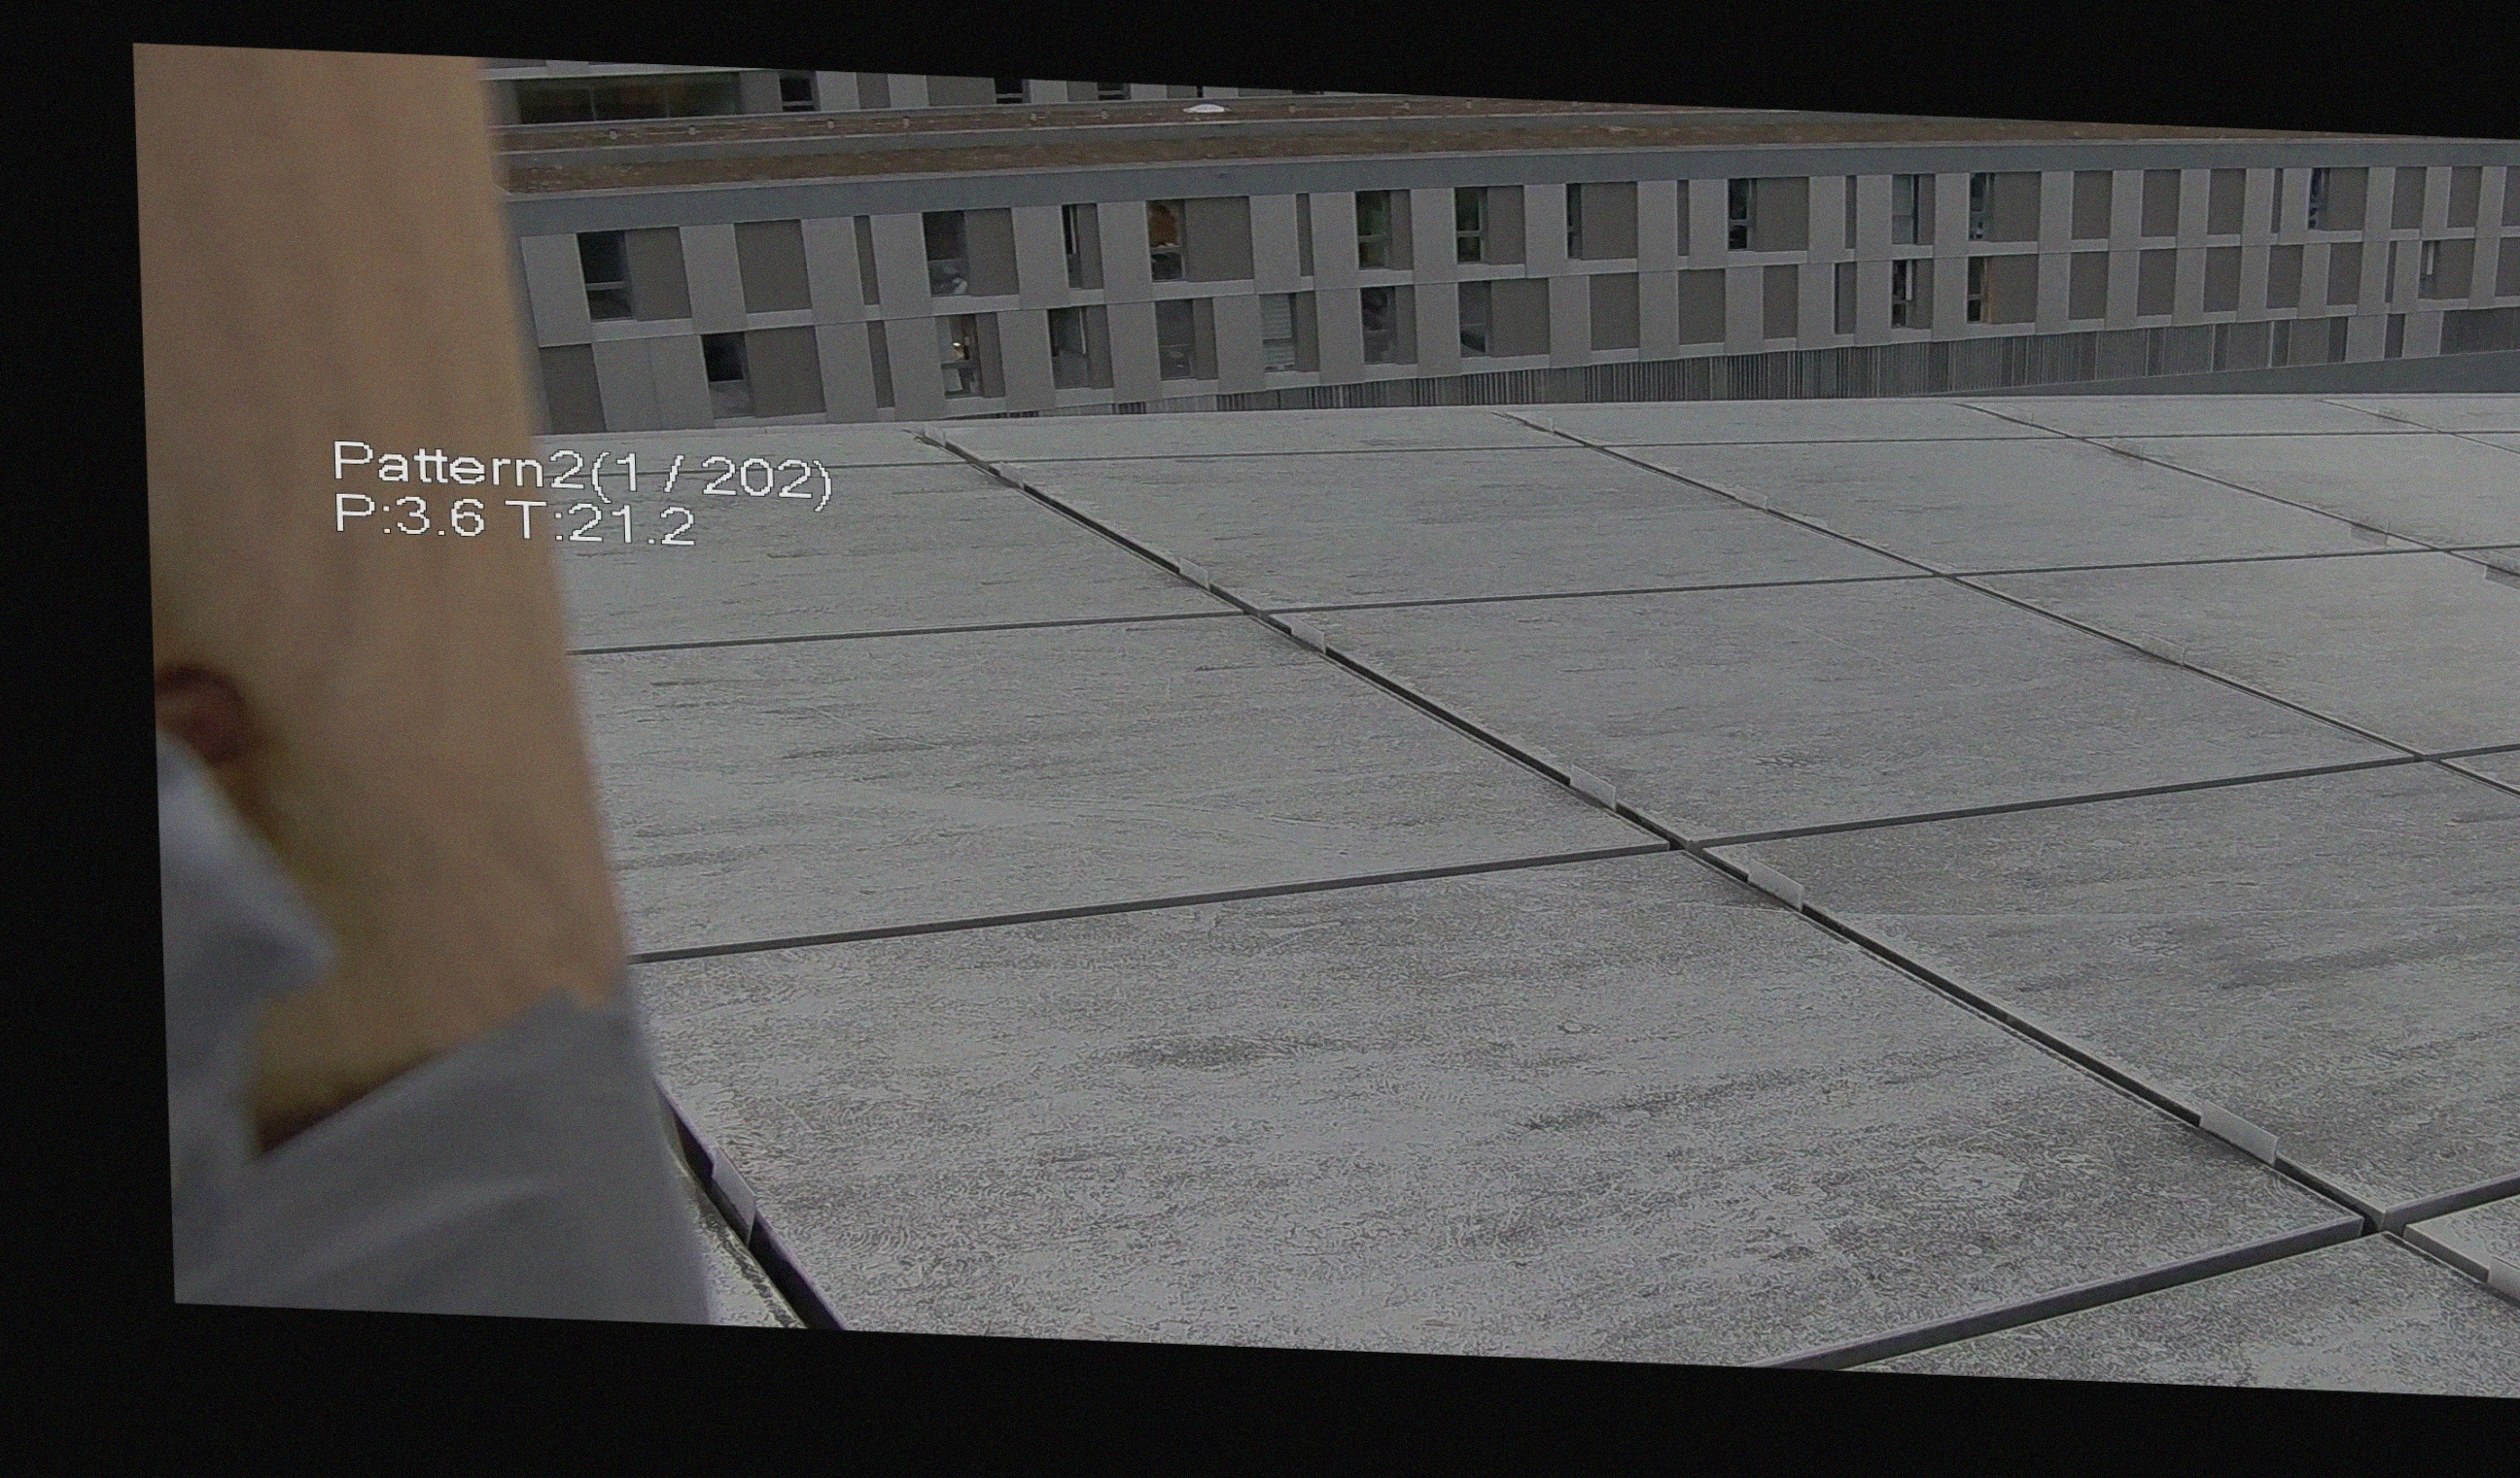Other: (155, 688, 357, 1172)
